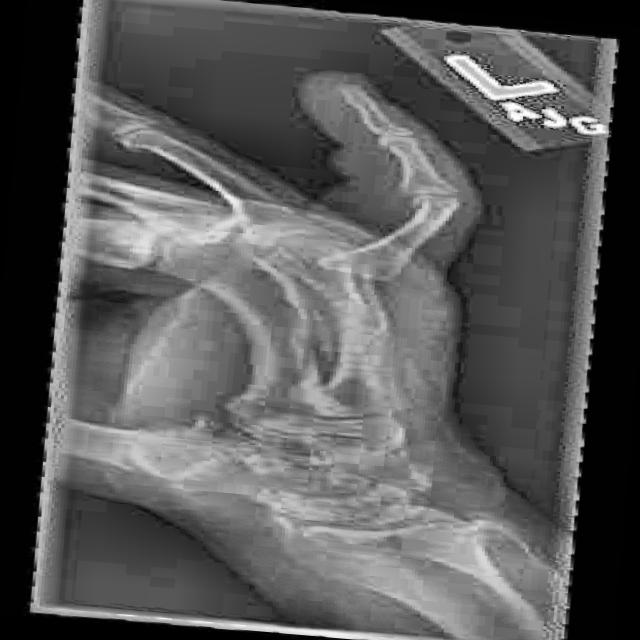fingers positive: (318, 326, 391, 377)
